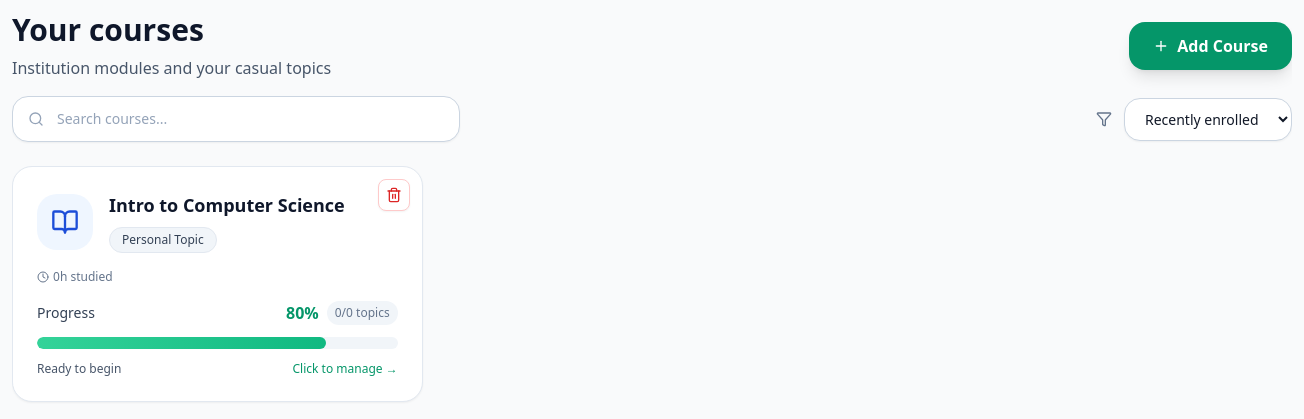
it: CoursesPage - Course Management › shows loading state while removing course
Expected: the heading "Intro to Computer Science" is shown, [109,193,345,217]
Click the button named "Remove" at (394, 195), box [378,179,410,211]
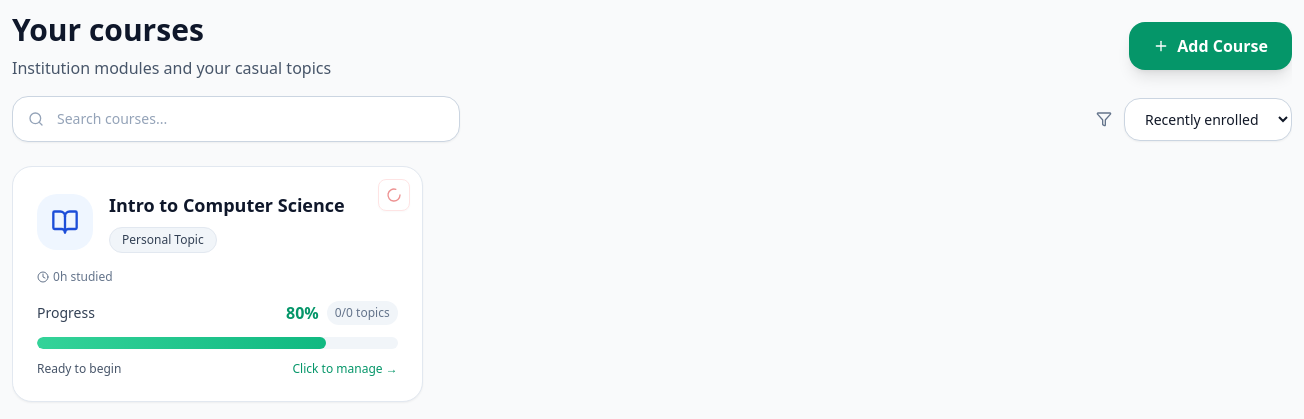
Result: the button named "Remove" is disabled at [378,179,410,211]
